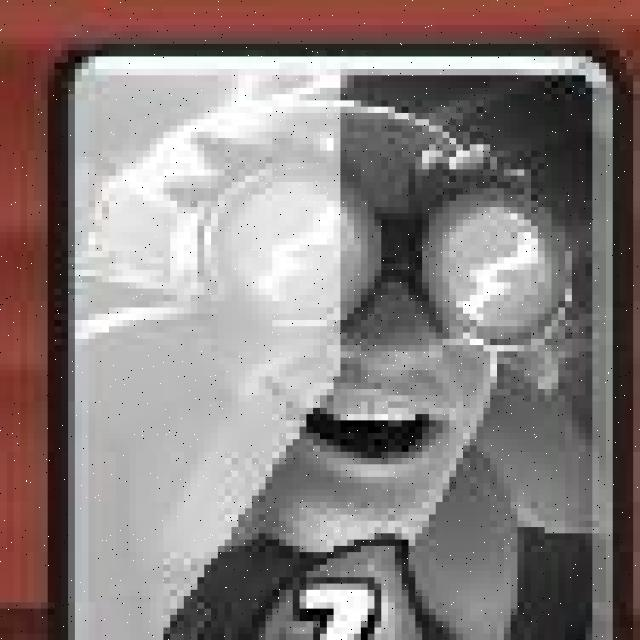Electro_Giant: (44, 37, 635, 640)
